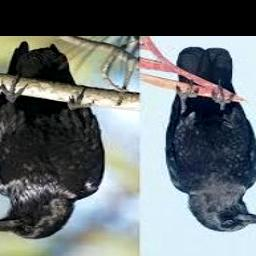Crow: (0, 41, 106, 239), (164, 47, 256, 233)
